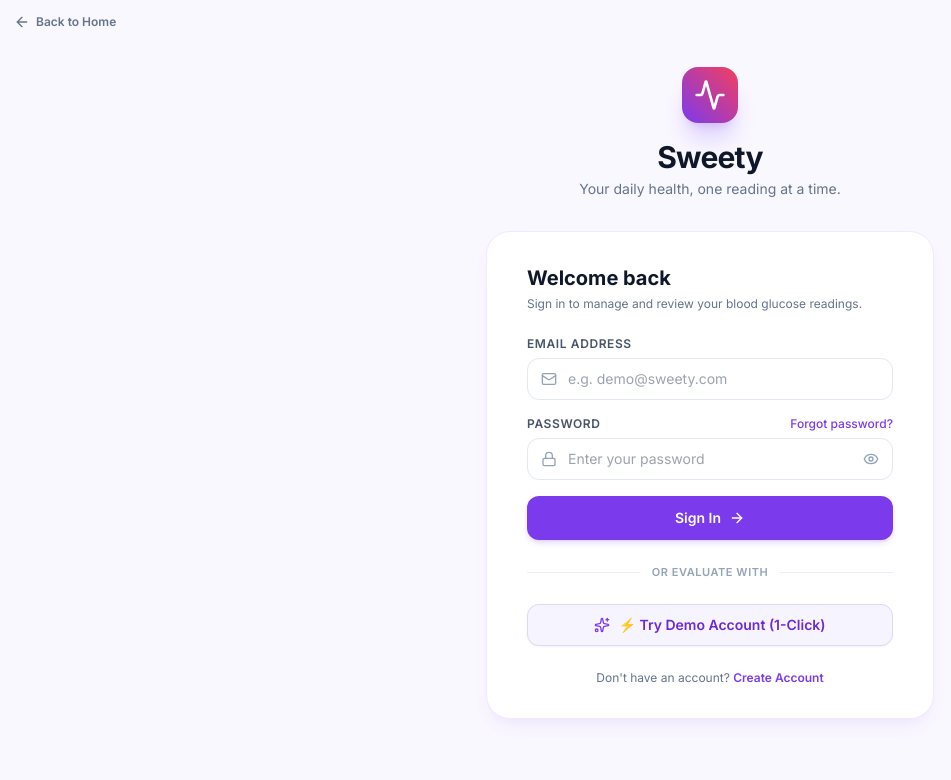
Test: Authentication Pages Validation & Accessibility Tests › displays error message when Demo Account login fails
Click the button "⚡ Try Demo Account (1-Click)".
click(710, 625)  # box [527,604,893,646]
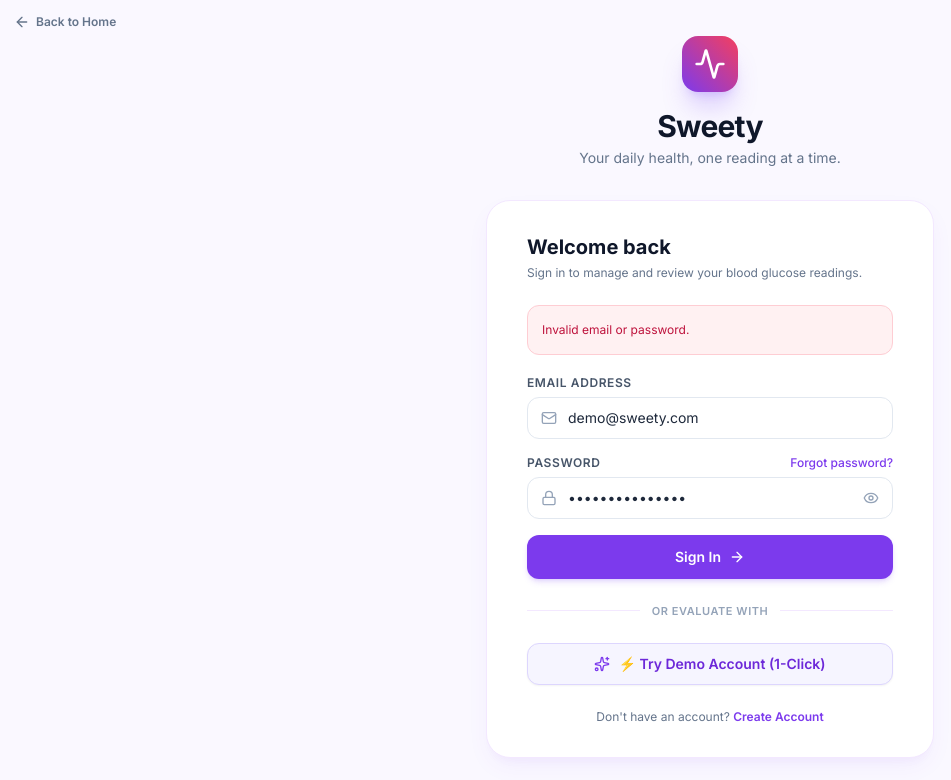
Now the text "Invalid email or password." is shown, box [527,305,893,354]
